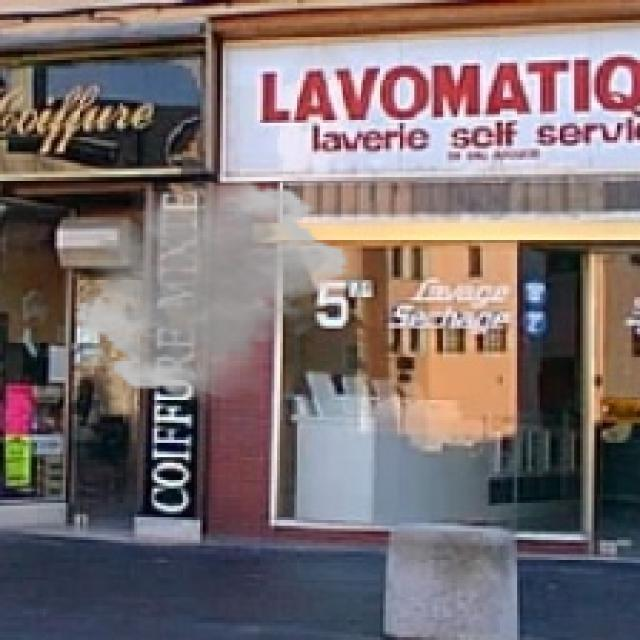Smoke: (71, 174, 352, 403)
